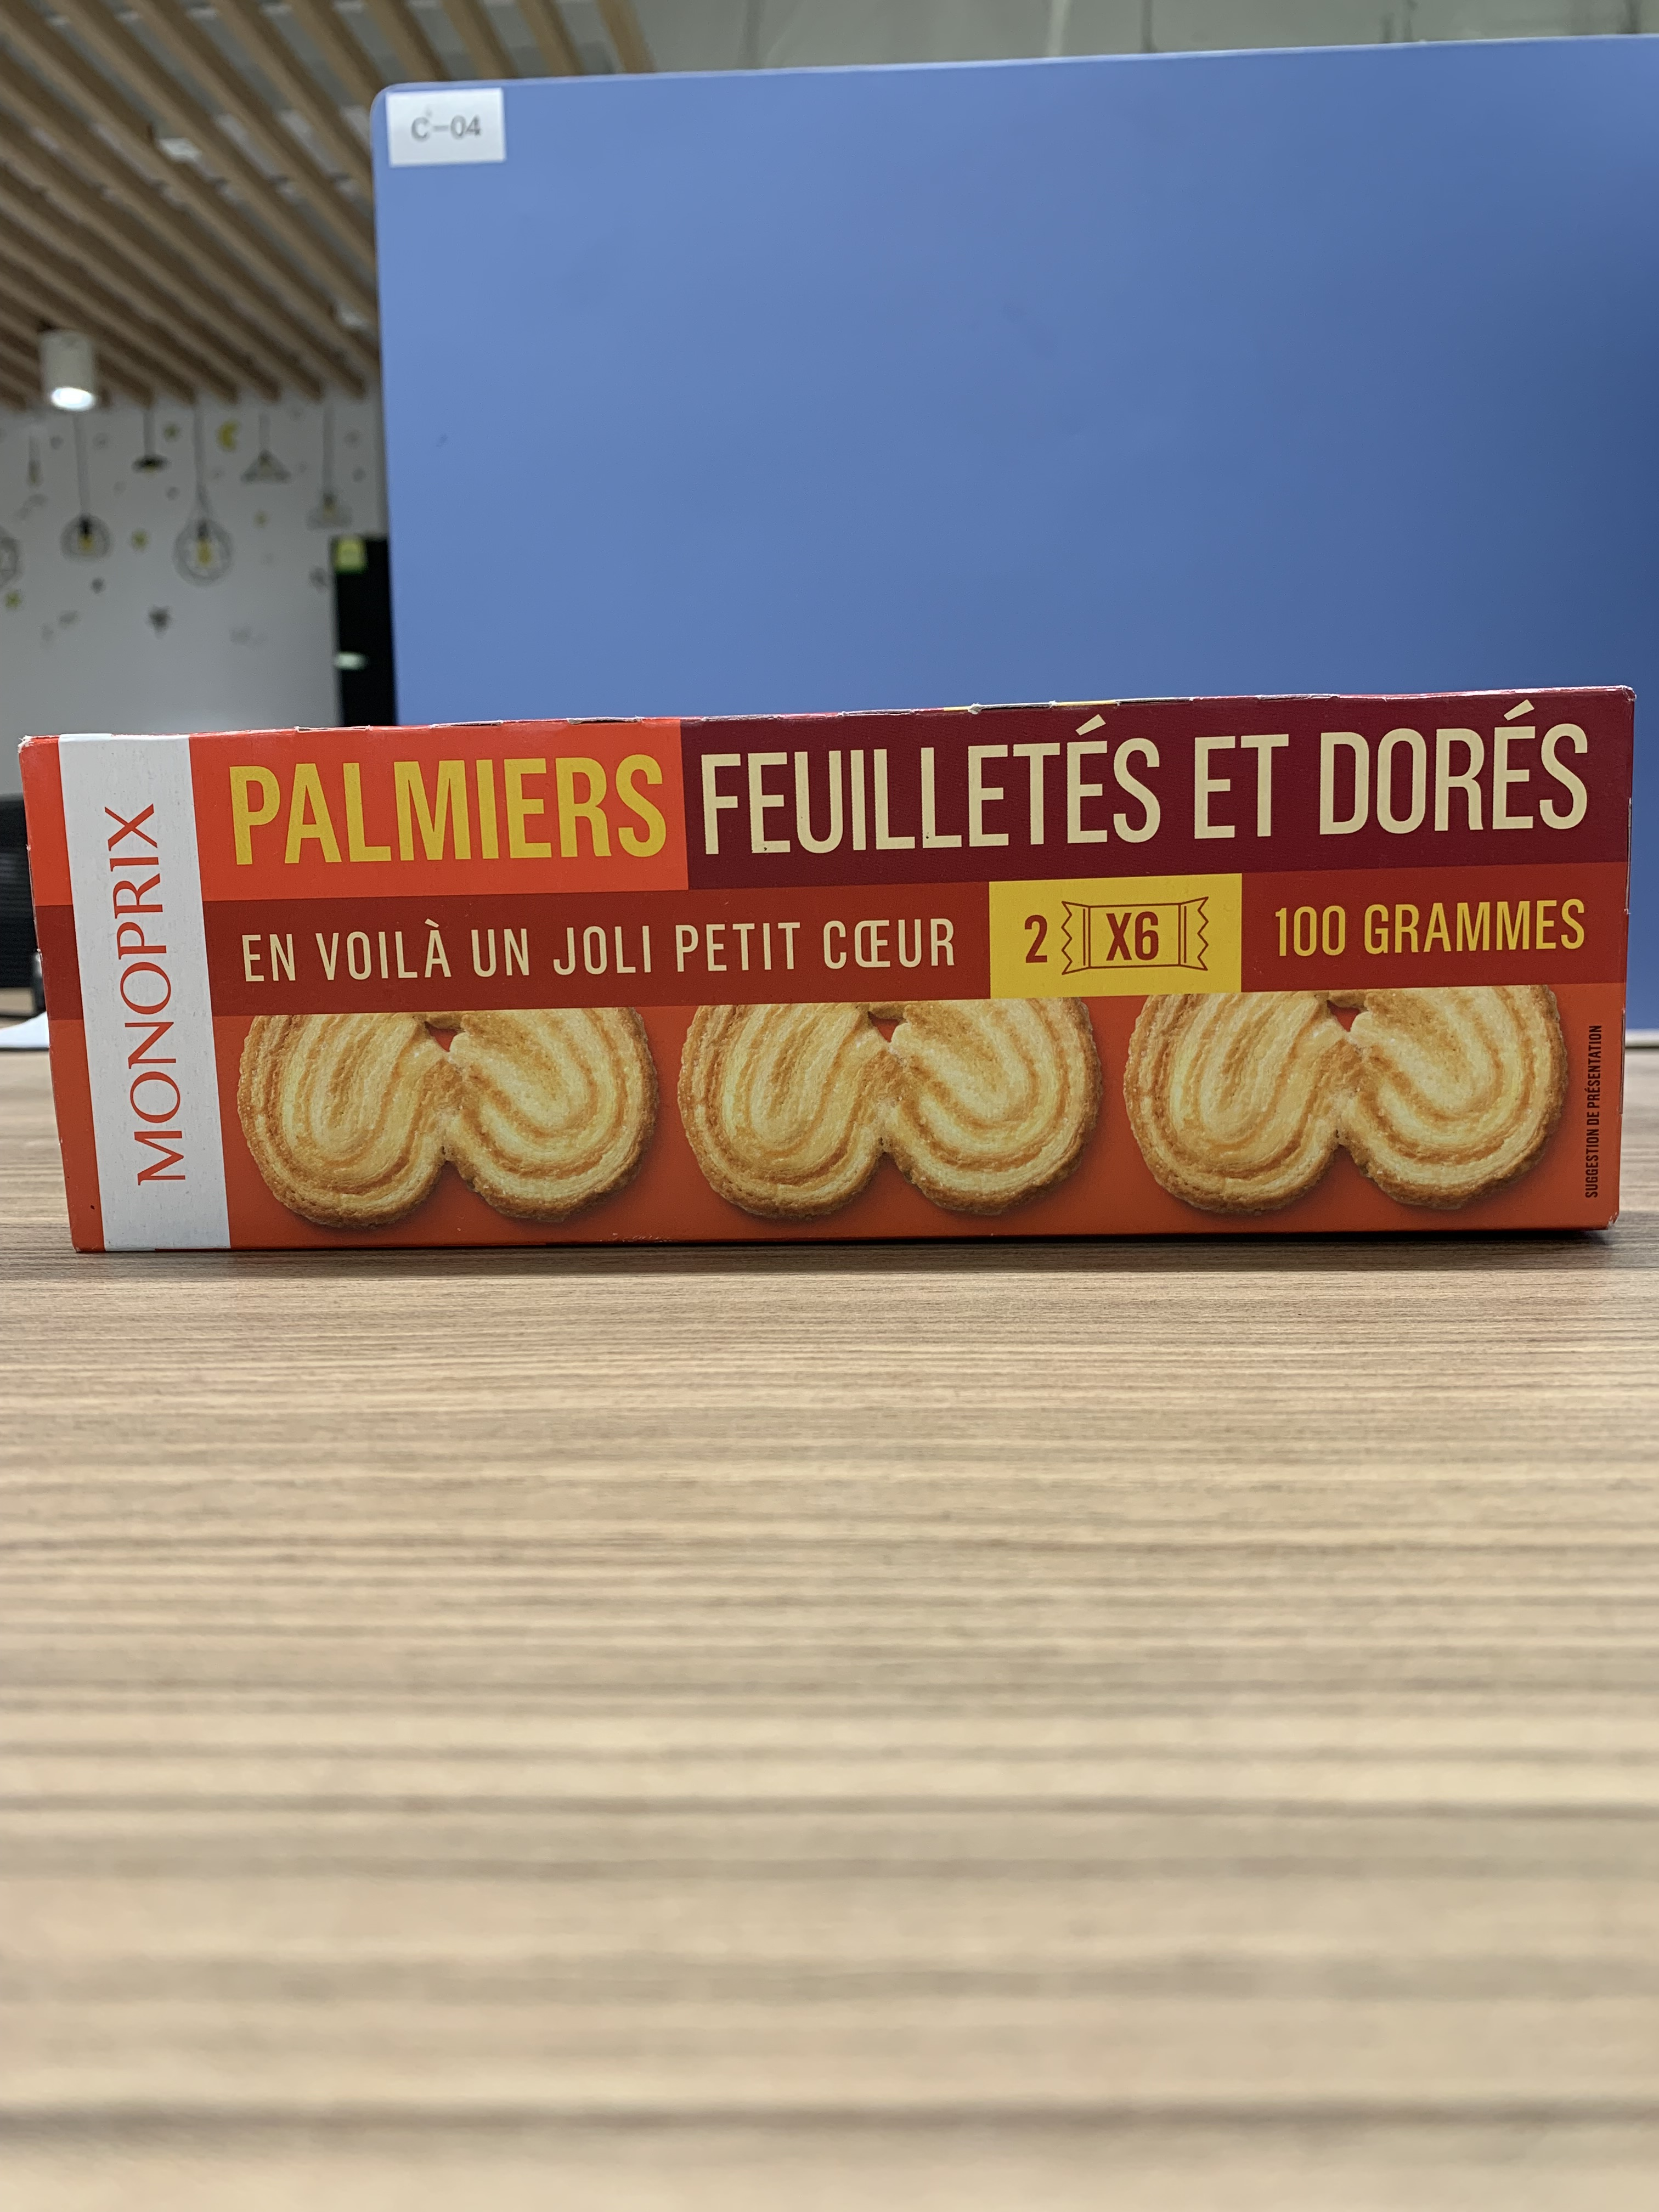cookies: (12, 671, 1643, 1266)
